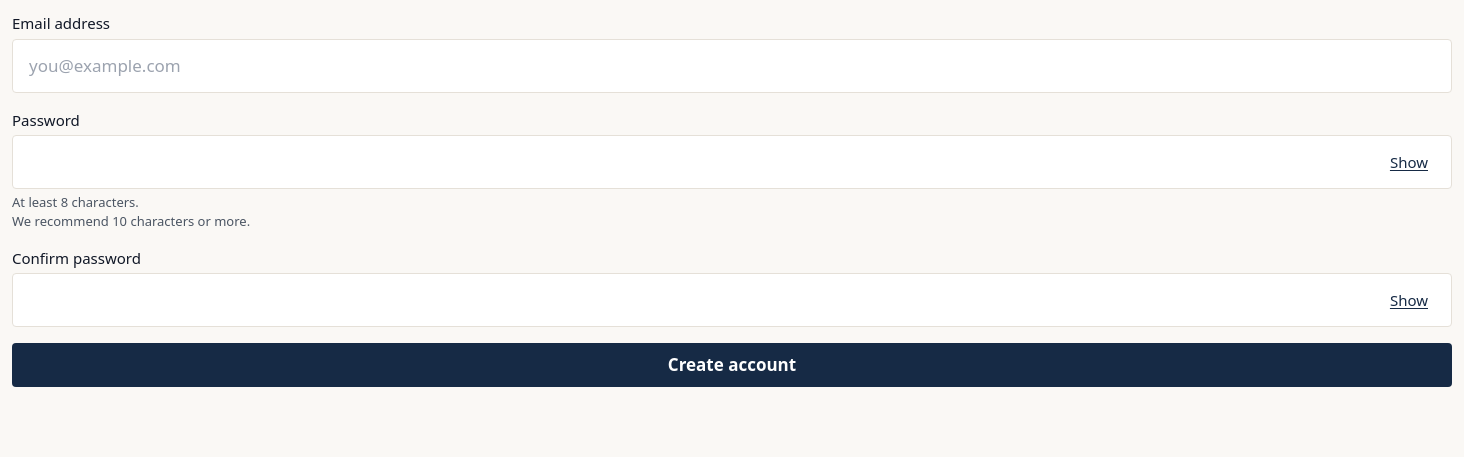
Test: auth forms — validation › rejects a short sign-up password and a mismatched confirmation
Type "traveler@waynora.test" into the field labelled "Email address" at (732, 66), box left=12, top=38, right=1452, bottom=92
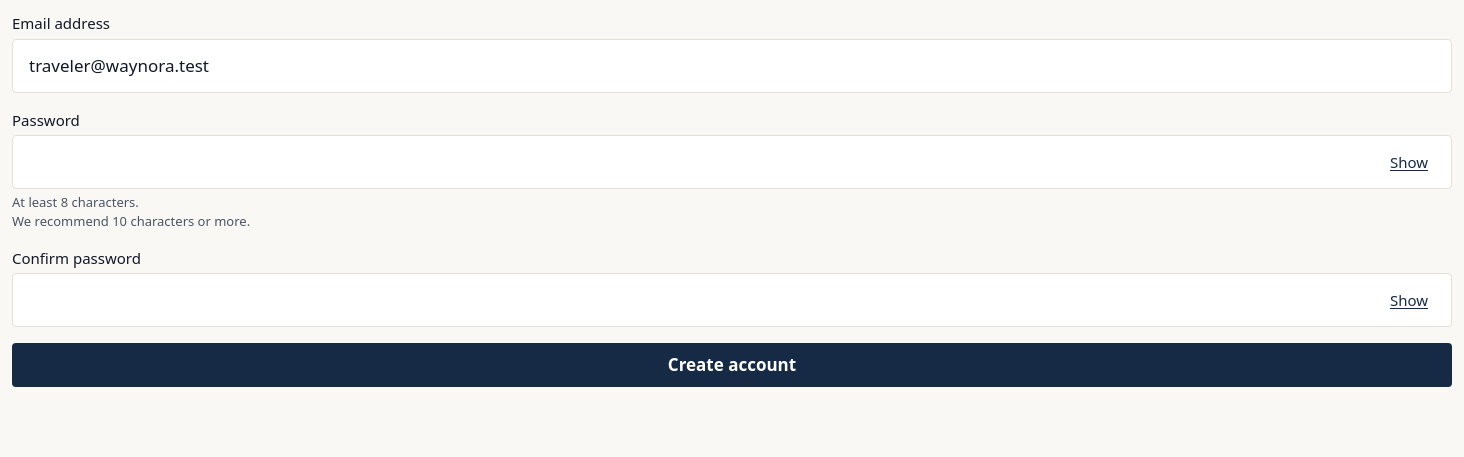
Type "short" into the password field labelled "Password" at (732, 162), box left=12, top=135, right=1452, bottom=189
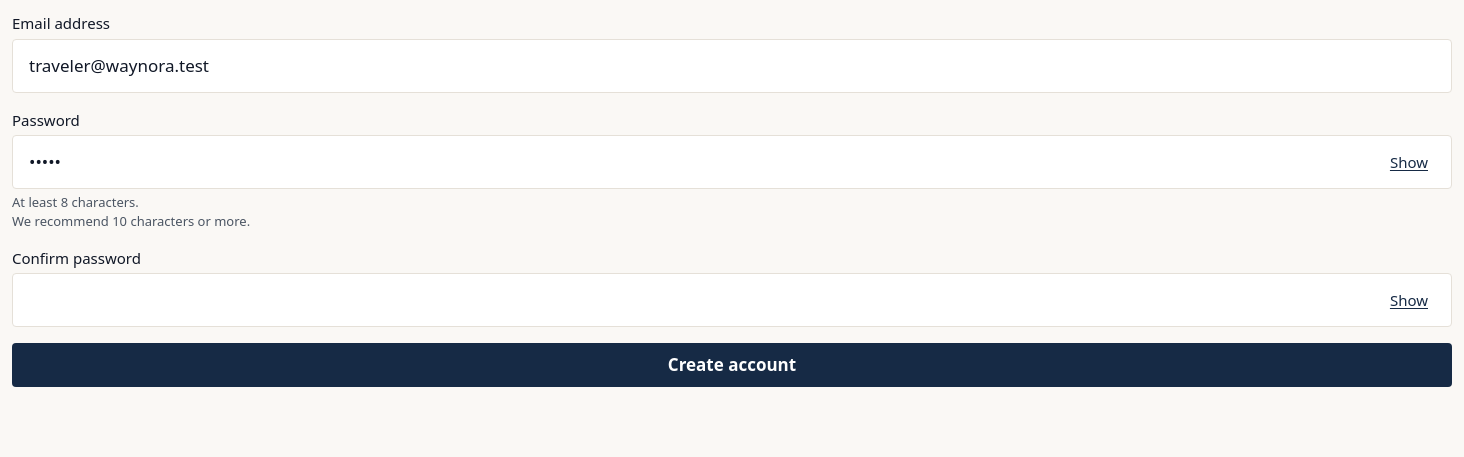
Type "different" into the password field labelled "Confirm password" at (732, 300), box left=12, top=273, right=1452, bottom=327
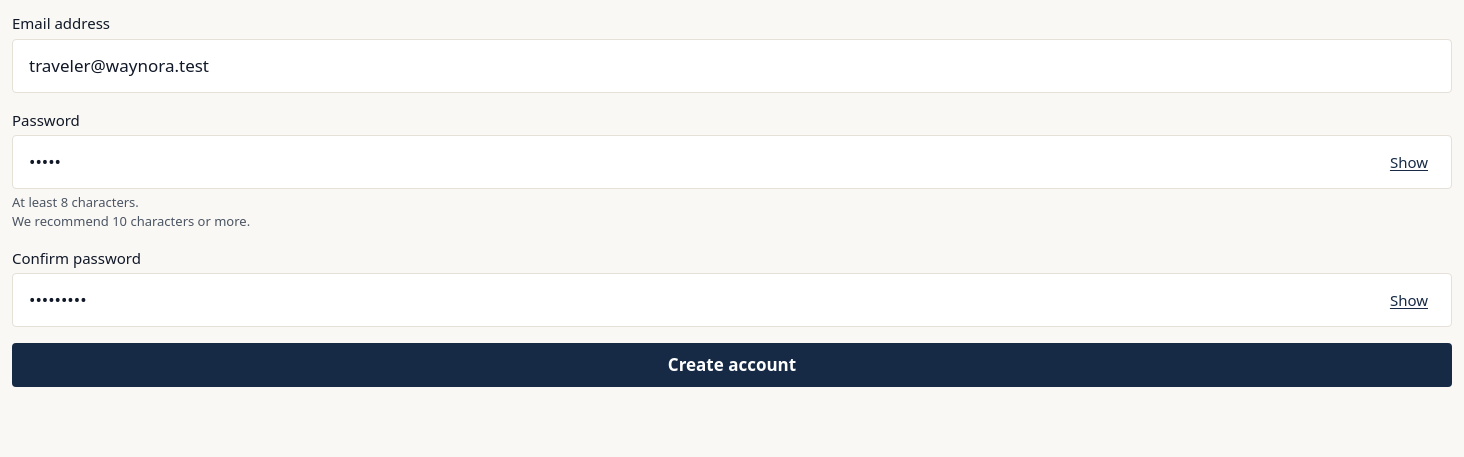
Click the button "Create account" at (732, 365), box left=12, top=343, right=1452, bottom=387
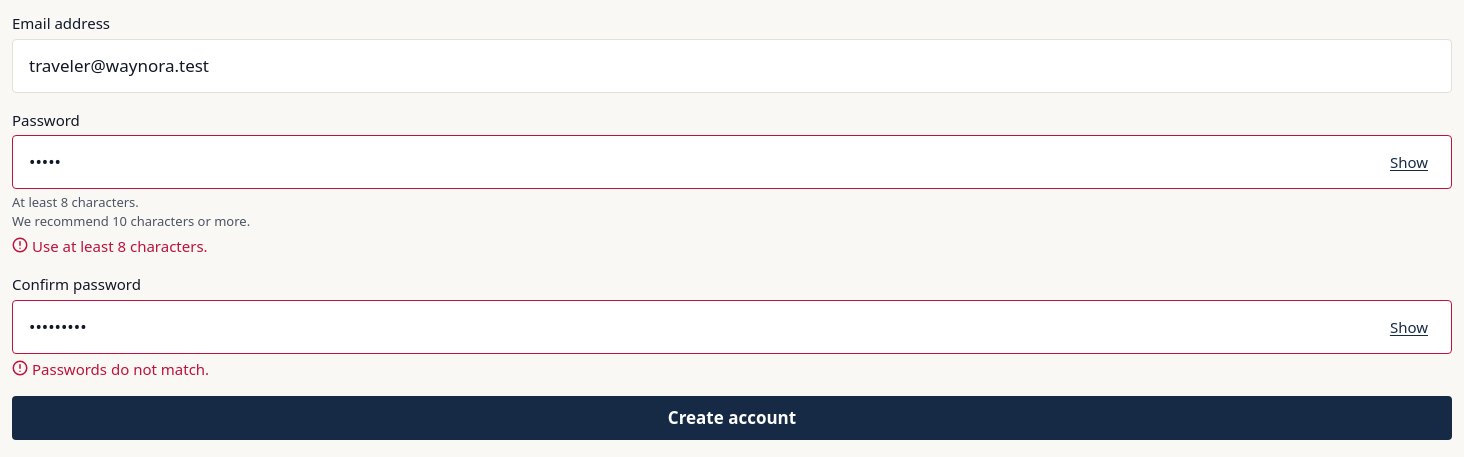
Now the text "Use at least 8 characters." is shown, box left=32, top=235, right=208, bottom=257
Now the text "Passwords do not match." is shown, box left=32, top=358, right=209, bottom=380
